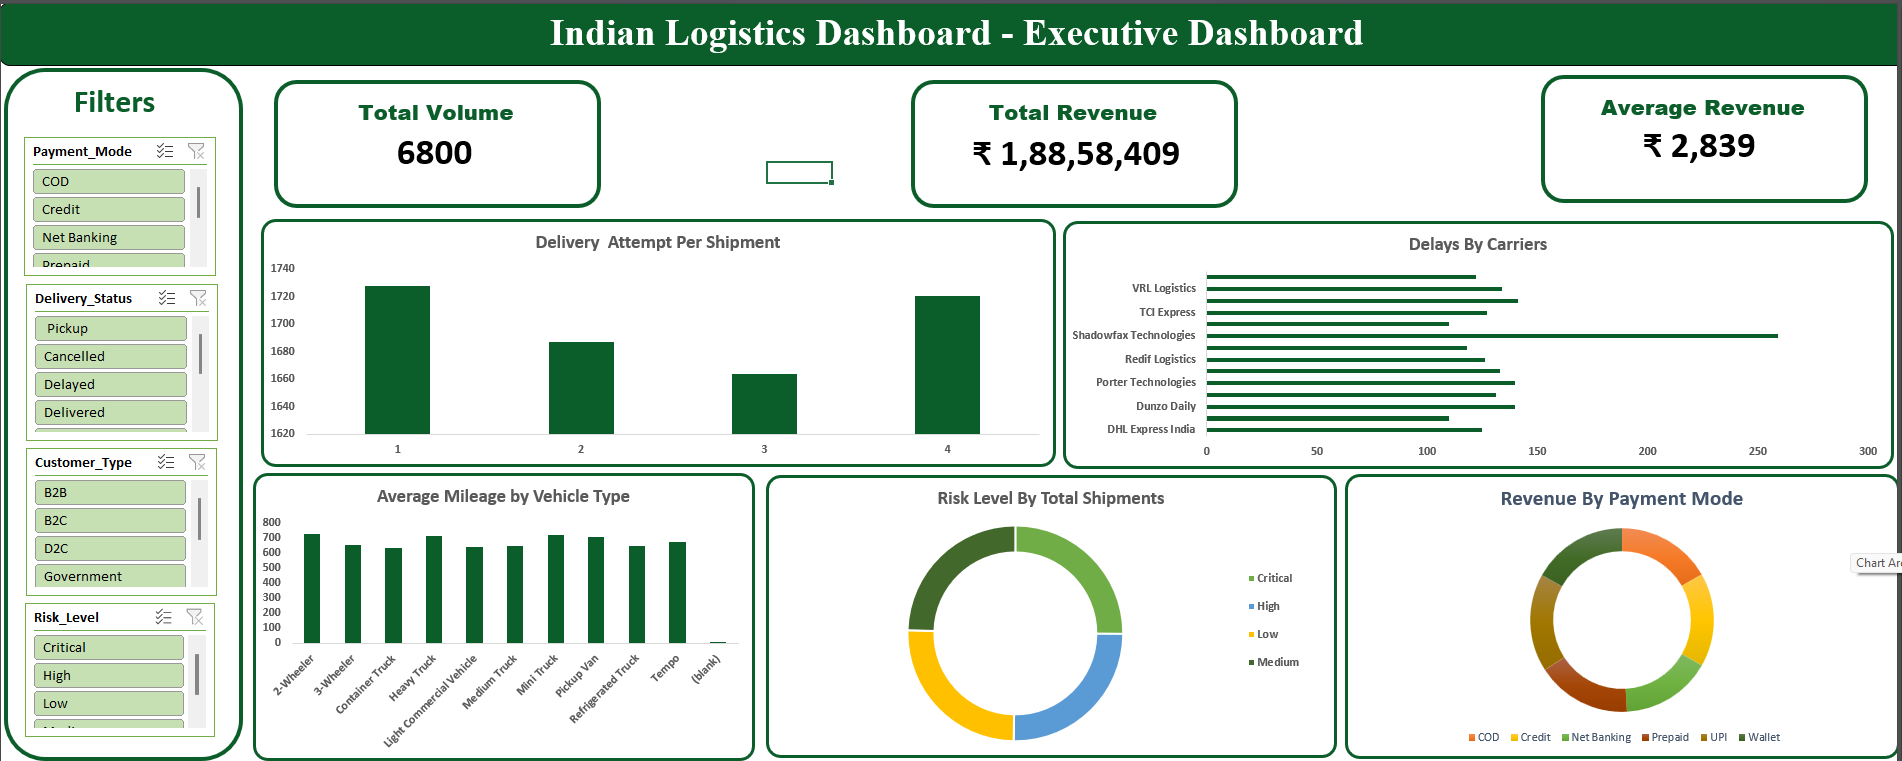

The page's visual inventory and layout, read from the dashboard file:
{"tool":"powerbi","page":{"name":"Executive Dashboard","canvas":[1366,768],"ordinal":0},"visuals":[{"type":"textbox","box":[239.8,44.6,1126.2,43.6],"z":0},{"type":"shape","box":[0,0,1366,45],"z":1000},{"type":"actionButton","box":[601,6.2,110,32.2],"z":2000},{"type":"actionButton","box":[730.7,6.2,110,32.2],"z":3000},{"type":"actionButton","box":[862.6,6.2,110,32.2],"z":4000},{"type":"actionButton","box":[989.2,6.2,110,32.2],"z":5000},{"type":"actionButton","box":[1113.8,6.2,110,32.2],"z":6000},{"type":"actionButton","box":[1223.8,6,110,32.2],"z":7000},{"type":"cardVisual","fields":{"Data":["Measures (2).Delayed Shipments"]},"box":[1060.8,102.8,266.8,139.1],"z":8000},{"type":"cardVisual","fields":{"Data":["Measures (2).Gross Revenue"]},"box":[519,102.8,266.8,139.1],"z":9000},{"type":"cardVisual","fields":{"Data":["Measures (2).Delivered Shipments"]},"box":[785.8,102.8,266.8,139.1],"z":10000},{"type":"cardVisual","fields":{"Data":["Measures (2).Total Customers"]},"box":[251.2,102.8,267.8,139.1],"z":11000},{"type":"image","box":[276.1,137,40.5,61.2],"z":12000},{"type":"image","box":[543.9,115.2,57.1,105.9],"z":13000},{"type":"image","box":[840.8,134.9,43.6,50.9],"z":14000},{"type":"image","box":[1113.8,137,42.6,46.7],"z":15000},{"type":"shape","box":[0,44.6,250.2,723.5],"z":16000},{"type":"slicer","fields":{"Values":["SHIPMENTS.Delivery_Status"]},"box":[22.8,270.9,205.5,77.8],"z":17000},{"type":"slicer","fields":{"Values":["CUSTOMERS.Customer_Type"]},"box":[22.8,395.5,205.5,79.9],"z":18000},{"type":"slicer","fields":{"Values":["VEHICLES.Vehicle_Type"]},"box":[22.8,508.6,205.5,79.9],"z":19000},{"type":"slicer","fields":{"Values":["WAREHOUSE.Warehouse_Type"]},"box":[22.8,625.9,205.5,79.9],"z":20000},{"type":"slicer","fields":{"Values":["SHIPMENTS.Payment_Mode"]},"box":[22.8,151.5,205.5,77.8],"z":21000},{"type":"textbox","title":"Fil","box":[45.7,73.7,163,63.3],"z":22000},{"type":"image","box":[22.8,59.2,40.5,87.2],"z":23000},{"type":"image","box":[187.9,59.2,40.5,87.2],"z":24000},{"type":"clusteredBarChart","fields":{"Category":["SHIPMENTS.Delivery_Status"],"Y":["Measures (2).Total Shipments"]},"box":[260,242.2,525.6,266.7],"z":25000},{"type":"donutChart","fields":{"Y":["Measures (2).Total Shipments"],"Category":["CUSTOMERS.Customer_Type"]},"box":[803.4,250.2,551.2,258.5],"z":26000},{"type":"lineChart","fields":{"Y":["Measures (2).Total Shipments"],"Category":["SHIPMENTS.Dispatch_Date.Variation.Date Hierarchy.Month"]},"box":[260,508.9,543.3,258.9],"z":27000},{"type":"columnChart","fields":{"Y":["Measures (2).Total Shipments"],"Category":["ROUTE.Risk_Level"]},"box":[803.3,508.9,551.1,258.9],"z":28000},{"type":"textbox","box":[15.6,5.6,244.4,33.3],"z":28001}]}

Visuals, with their boxes on the page's 1366x768 design canvas (x1, y1, x2, y2). These are canvas units, not pixel positions in the 1902x761 screenshot, which may show the page scaled, cropped or inside an application window:
textbox: region(240, 45, 1366, 88)
shape: region(0, 0, 1366, 45)
actionButton: region(601, 6, 711, 38)
actionButton: region(731, 6, 841, 38)
actionButton: region(863, 6, 973, 38)
actionButton: region(989, 6, 1099, 38)
actionButton: region(1114, 6, 1224, 38)
actionButton: region(1224, 6, 1334, 38)
cardVisual - Measures (2).Delayed Shipments: region(1061, 103, 1328, 242)
cardVisual - Measures (2).Gross Revenue: region(519, 103, 786, 242)
cardVisual - Measures (2).Delivered Shipments: region(786, 103, 1053, 242)
cardVisual - Measures (2).Total Customers: region(251, 103, 519, 242)
image: region(276, 137, 317, 198)
image: region(544, 115, 601, 221)
image: region(841, 135, 884, 186)
image: region(1114, 137, 1156, 184)
shape: region(0, 45, 250, 768)
slicer - SHIPMENTS.Delivery_Status: region(23, 271, 228, 349)
slicer - CUSTOMERS.Customer_Type: region(23, 396, 228, 475)
slicer - VEHICLES.Vehicle_Type: region(23, 509, 228, 588)
slicer - WAREHOUSE.Warehouse_Type: region(23, 626, 228, 706)
slicer - SHIPMENTS.Payment_Mode: region(23, 152, 228, 229)
"Fil" textbox: region(46, 74, 209, 137)
image: region(23, 59, 63, 146)
image: region(188, 59, 228, 146)
clusteredBarChart - SHIPMENTS.Delivery_Status x Measures (2).Total Shipments: region(260, 242, 786, 509)
donutChart - Measures (2).Total Shipments x CUSTOMERS.Customer_Type: region(803, 250, 1355, 509)
lineChart - Measures (2).Total Shipments x SHIPMENTS.Dispatch_Date.Variation.Date Hierarchy.Month: region(260, 509, 803, 768)
columnChart - Measures (2).Total Shipments x ROUTE.Risk_Level: region(803, 509, 1354, 768)
textbox: region(16, 6, 260, 39)
